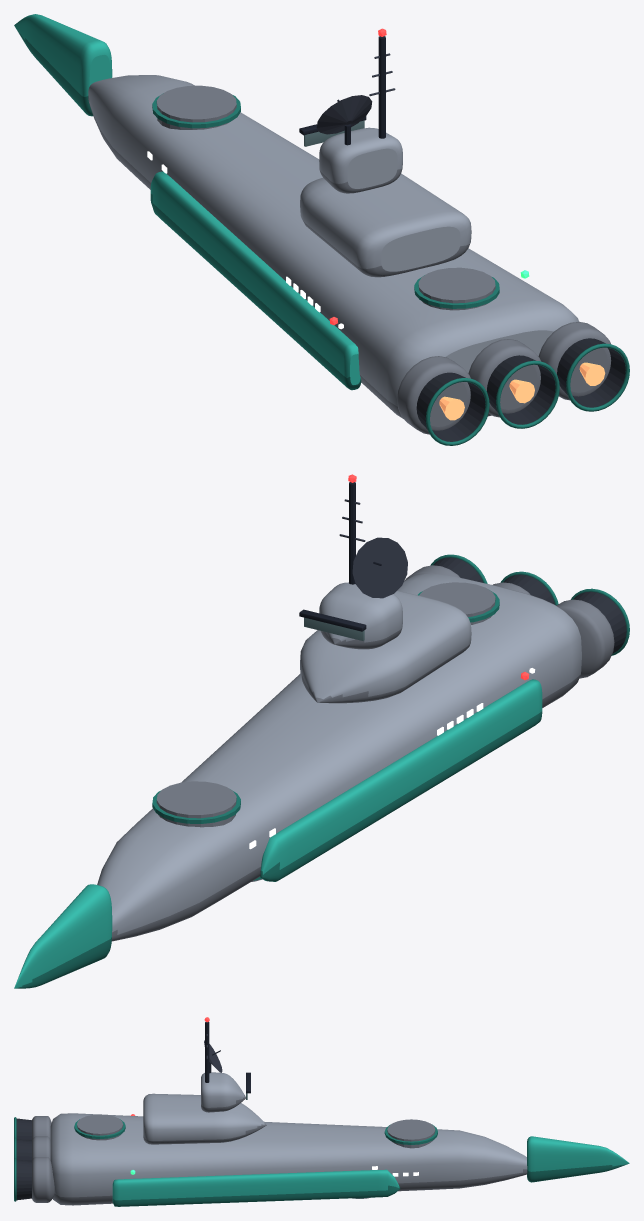
The model's file is halberd.glb.
3 renders of one model, top to bottom at view 1: azimuth 30°, elevation 25°; view 2: azimuth 150°, elevation 25°; view 3: azimuth 270°, elevation 25°, orthographic. The views are drawn at different scales.
Visible parts, largest first — view 1: halberd_mesh, radar_mesh; view 2: halberd_mesh, radar_mesh; view 3: halberd_mesh.
Boxes of the visible parts, <box> form: halberd_mesh: <box>14,14,629,445</box>; radar_mesh: <box>316,95,372,145</box>; halberd_mesh: <box>14,482,629,988</box>; radar_mesh: <box>352,537,407,598</box>; halberd_mesh: <box>14,1022,629,1206</box>.
Bounding box in the file's own units: 6.94 × 9.67 × 29.87.
